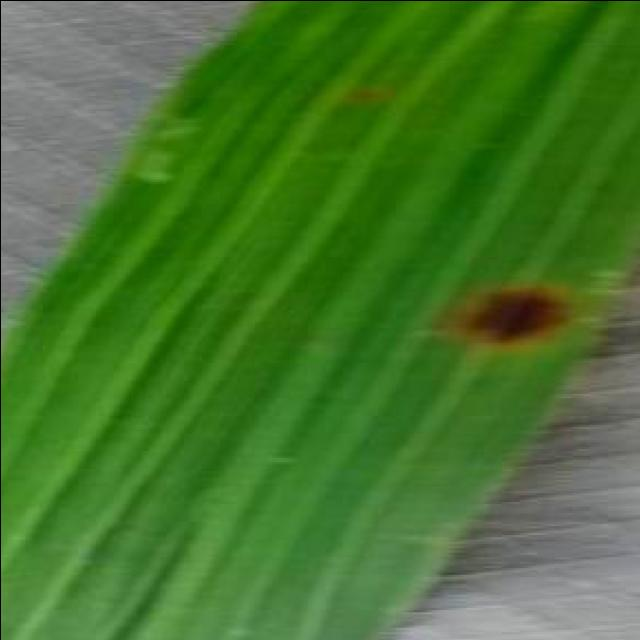Brown_Spot: (435, 254, 611, 386)
